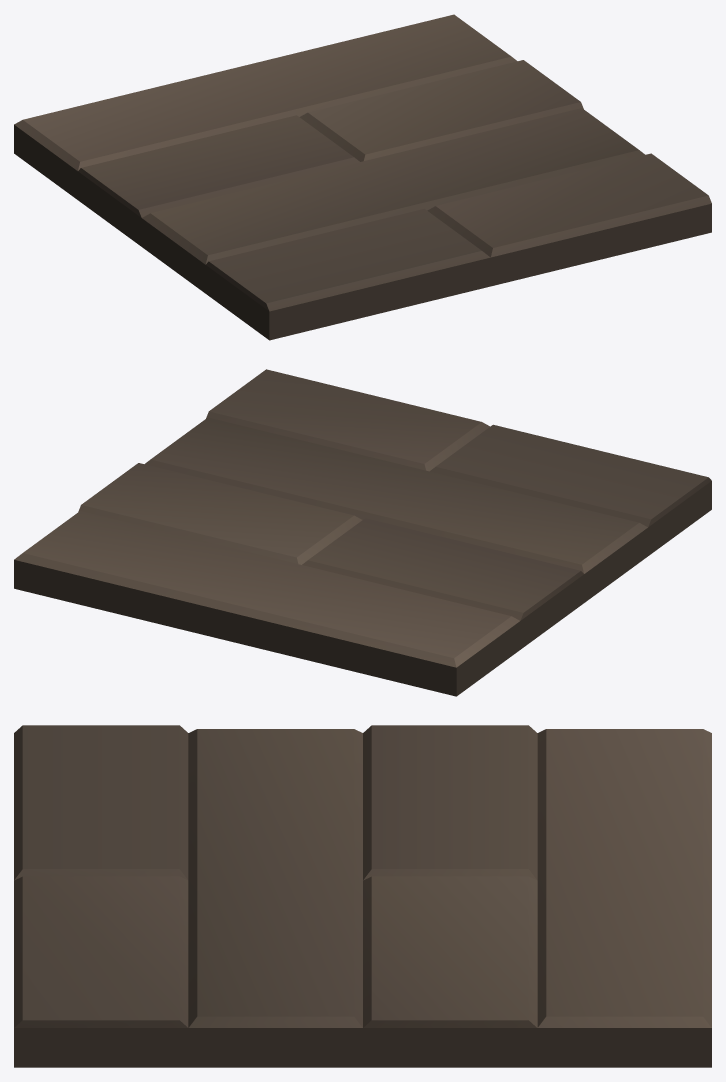
File: floor-wood-small-dark.glb
The picture shows the model from 3 angles, top to bottom: view 1: azimuth 30°, elevation 25°; view 2: azimuth 150°, elevation 25°; view 3: azimuth 270°, elevation 25°; orthographic projection. The views are drawn at different scales.
Parts seen in each view (by area): view 1: floor-wood-small-dark; view 2: floor-wood-small-dark; view 3: floor-wood-small-dark.
Boxes of the visible parts, <box> form: floor-wood-small-dark: <box>14,14,711,340</box>; floor-wood-small-dark: <box>14,369,711,696</box>; floor-wood-small-dark: <box>14,725,711,1067</box>.
Bounding box in the file's own units: 1.5 × 0.1124 × 1.5.
